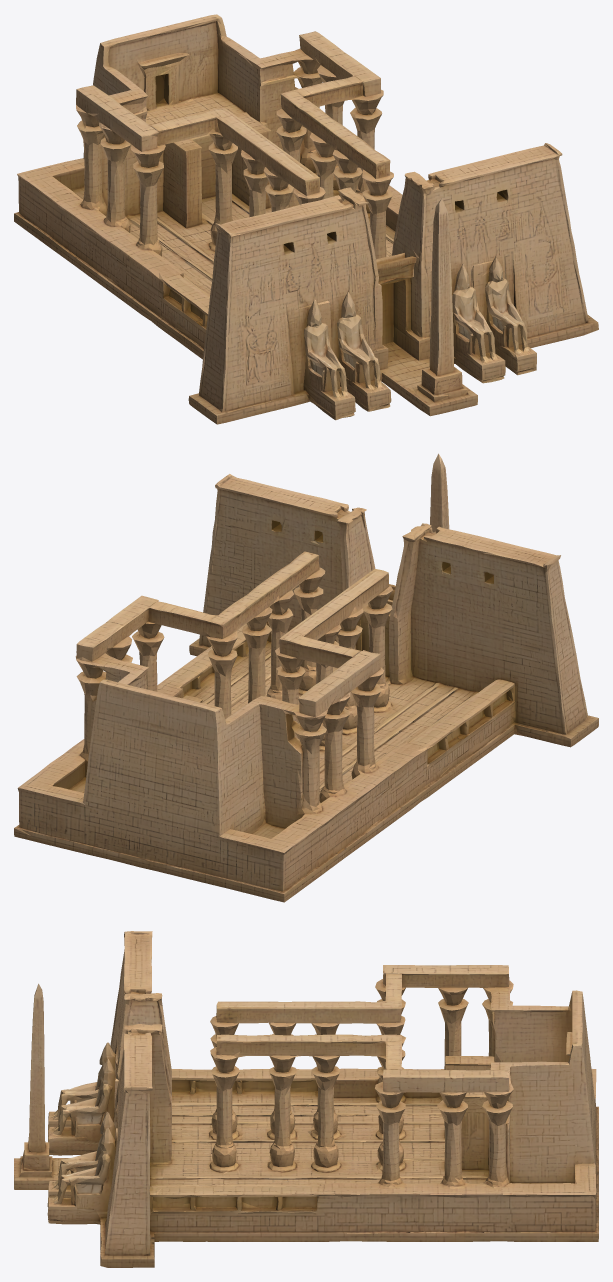
File: temple.glb
The picture shows the model from 3 angles, top to bottom: view 1: azimuth 30°, elevation 25°; view 2: azimuth 150°, elevation 25°; view 3: azimuth 270°, elevation 25°; orthographic projection. The views are drawn at different scales.
Visible parts, largest first — view 1: Mesh; view 2: Mesh; view 3: Mesh.
Part boxes in pixels (x1=…): Mesh: x1=14, y1=14, x2=598, y2=424; Mesh: x1=14, y1=453, x2=598, y2=902; Mesh: x1=14, y1=931, x2=598, y2=1267.
Bounding box in the file's own units: 1.25 × 0.6371 × 1.72.
Materials: 1 (1 with a texture image).
